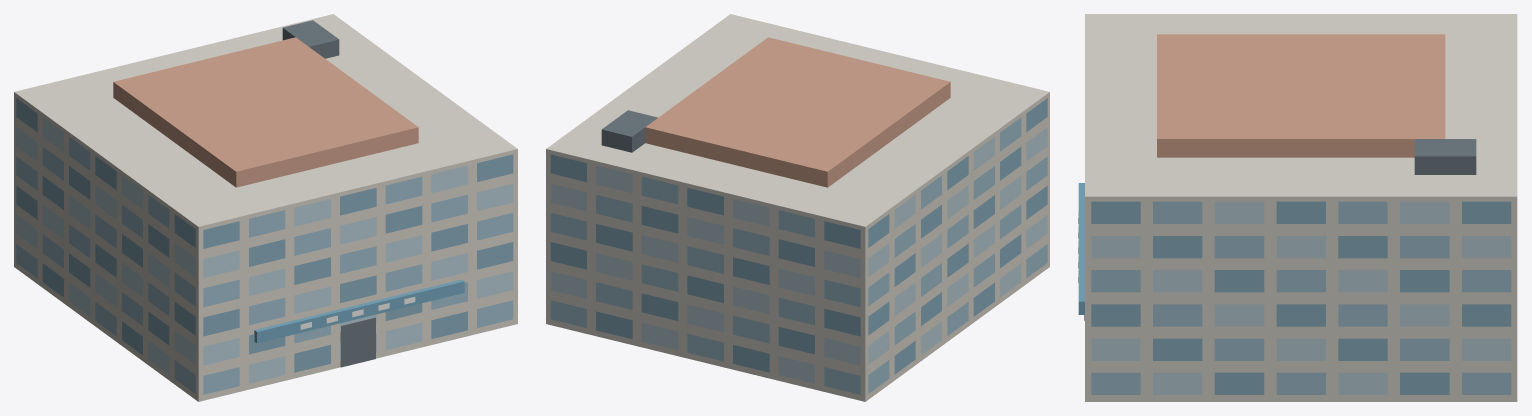
File: korea-building-7-compact.glb
3 renders of one model, left to right at view 1: azimuth 30°, elevation 25°; view 2: azimuth 150°, elevation 25°; view 3: azimuth 270°, elevation 25°, orthographic. The views are drawn at different scales.
Size of the model in its own units: 10.52 by 6 by 10.68.
